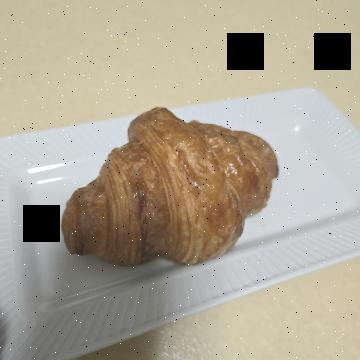croissant: (93, 70, 280, 304)
